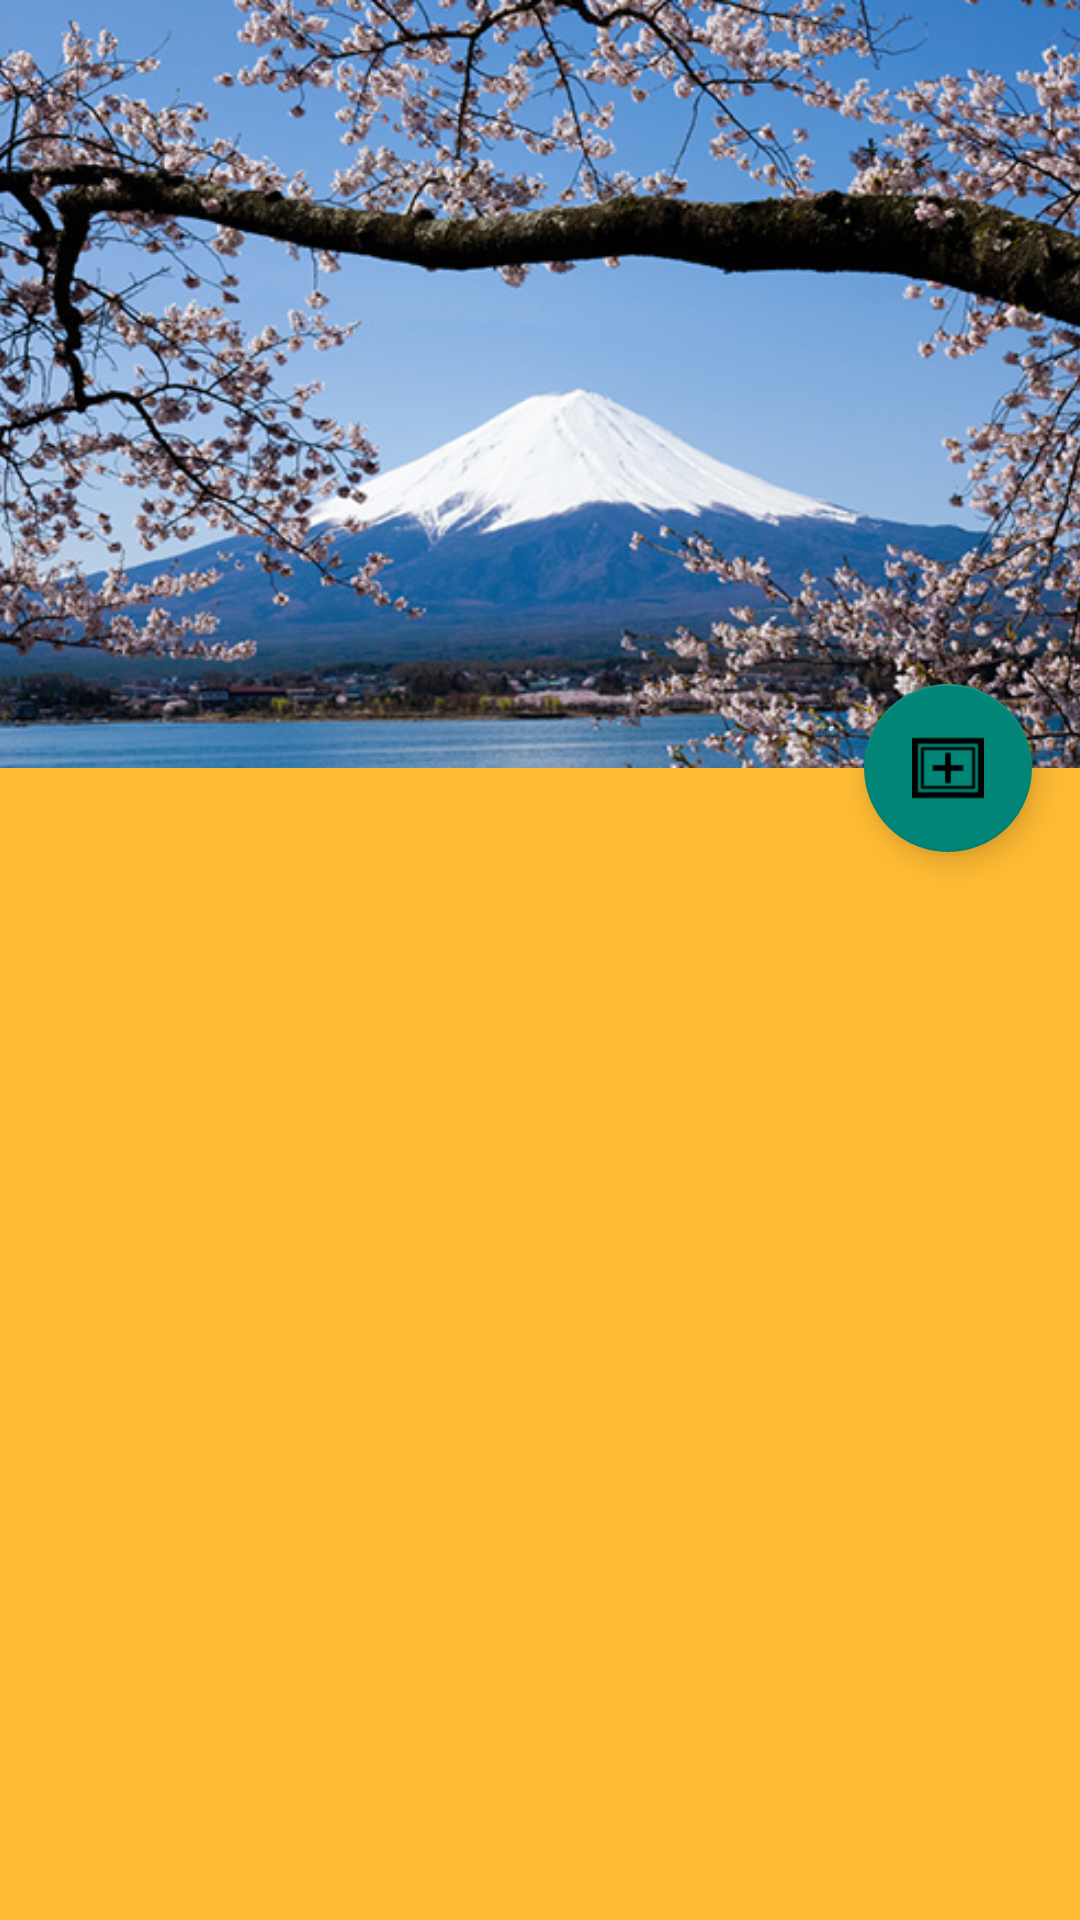

Named icons in this screenshot (1080px x 1920px) and their centers, (x=x, y=y):
add: (x=948, y=768)
